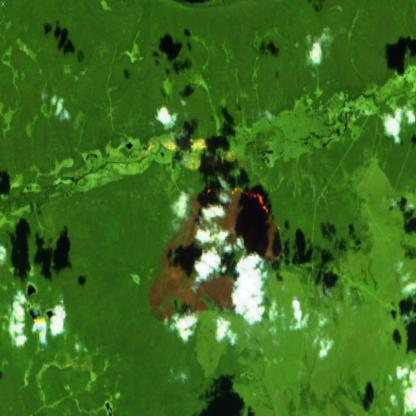fire: (199, 183, 273, 217), (34, 314, 48, 343)
